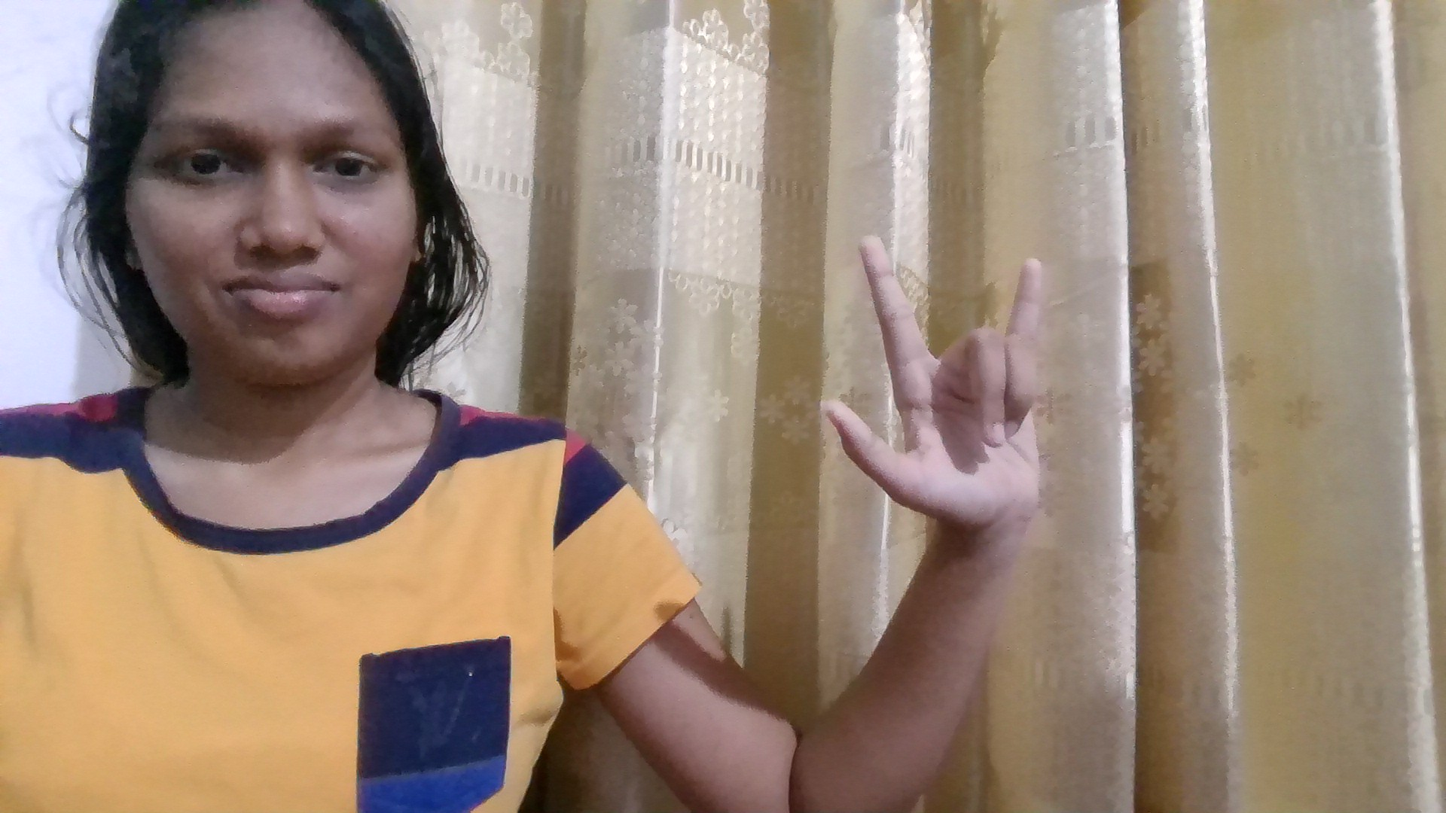Good_Luck: (815, 100, 1158, 633)
